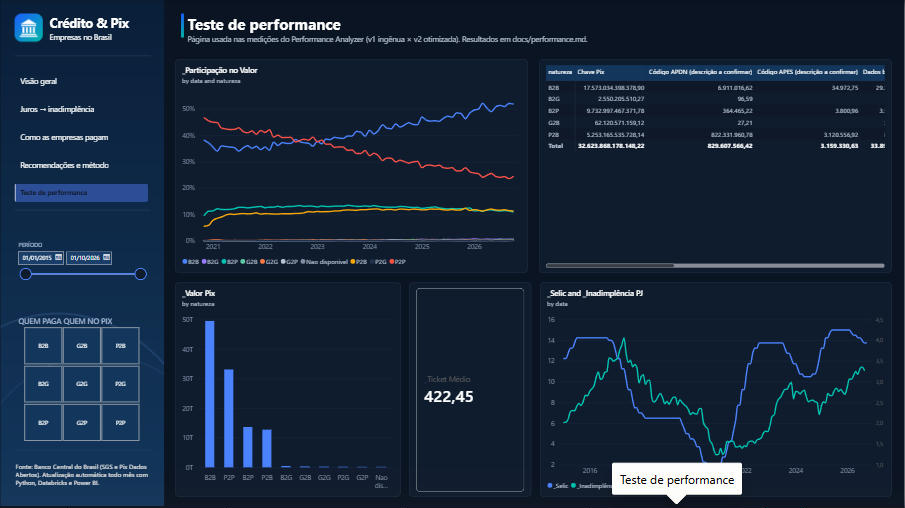

What the dashboard file says about the page in this screenshot:
{"tool":"powerbi","page":{"name":"Teste de performance","canvas":[1920,1080],"ordinal":4},"visuals":[{"type":"lineChart","fields":{"Category":["dCalendario.data"],"Series":["dNatureza.natureza"],"Y":["gold_pix_natureza_mensal._Participação no Valor"]},"box":[372,126,750,455],"z":0},{"type":"columnChart","fields":{"Category":["dNatureza.natureza"],"Y":["gold_pix_natureza_mensal._Valor Pix"]},"box":[372,599,480,457],"z":1000},{"type":"cardVisual","fields":{"Data":["gold_pix_natureza_mensal._Ticket Médio"]},"box":[870,599,260,457],"z":2000},{"type":"pivotTable","fields":{"Columns":["gold_pix_empresas_forma_iniciacao.forma_iniciacao_descricao"],"Rows":["dNatureza.natureza"],"Values":["gold_pix_natureza_mensal._Valor Pix Empresas"]},"box":[1146,126,750,455],"z":3000},{"type":"lineChart","fields":{"Category":["dCalendario.data"],"Y":["gold_pix_natureza_mensal._Selic"],"Y2":["gold_pix_natureza_mensal._Inadimplência PJ"]},"box":[1148,599,748,457],"z":4000},{"type":"textbox","box":[92,20,250,92],"z":4001},{"type":"pageNavigator","box":[18,142,312,300],"z":4002},{"type":"slicer","fields":{"Values":["dCalendario.data"]},"box":[18,500,312,130],"z":4003},{"type":"slicer","fields":{"Values":["dNatureza.natureza"]},"box":[18,660,312,290],"z":4004},{"type":"textbox","box":[20,972,310,90],"z":4005},{"type":"textbox","box":[384,18,1500,96],"z":4006}]}

Visuals, with their boxes on the page's 1920x1080 design canvas (x1, y1, x2, y2). These are canvas units, not pixel positions in the 905x508 screenshot, which may show the page scaled, cropped or inside an application window:
lineChart - dCalendario.data x dNatureza.natureza: bbox=[372, 126, 1122, 581]
columnChart - dNatureza.natureza x gold_pix_natureza_mensal._Valor Pix: bbox=[372, 599, 852, 1056]
cardVisual - gold_pix_natureza_mensal._Ticket Médio: bbox=[870, 599, 1130, 1056]
pivotTable - gold_pix_empresas_forma_iniciacao.forma_iniciacao_descricao x dNatureza.natureza: bbox=[1146, 126, 1896, 581]
lineChart - dCalendario.data x gold_pix_natureza_mensal._Selic: bbox=[1148, 599, 1896, 1056]
textbox: bbox=[92, 20, 342, 112]
pageNavigator: bbox=[18, 142, 330, 442]
slicer - dCalendario.data: bbox=[18, 500, 330, 630]
slicer - dNatureza.natureza: bbox=[18, 660, 330, 950]
textbox: bbox=[20, 972, 330, 1062]
textbox: bbox=[384, 18, 1884, 114]
